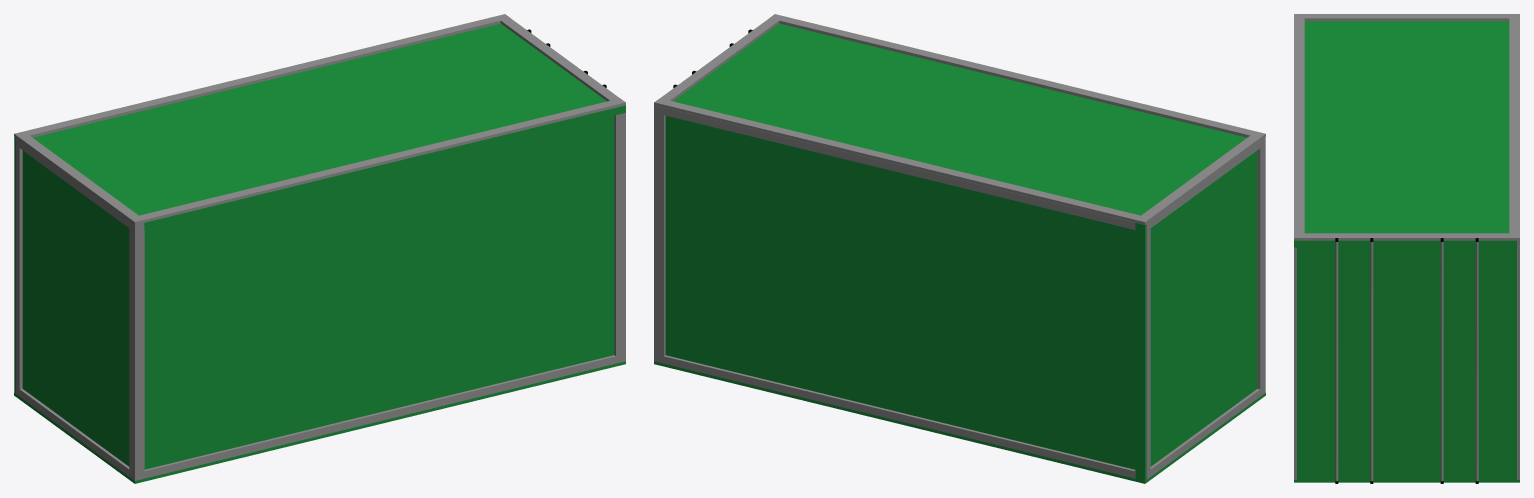
Rendered from Container(1).glb.
The picture shows the model from 3 angles, left to right: view 1: azimuth 30°, elevation 25°; view 2: azimuth 150°, elevation 25°; view 3: azimuth 270°, elevation 25°; orthographic projection. The views are drawn at different scales.
Visible parts, largest first — view 1: Root; view 2: Root; view 3: Root.
Boxes of the visible parts, x1,y1,x2,y2 form: Root: (14, 14, 625, 483); Root: (654, 14, 1265, 483); Root: (1294, 14, 1519, 483).
Bounding box in the file's own units: 3.52 × 1.78 × 1.49.
